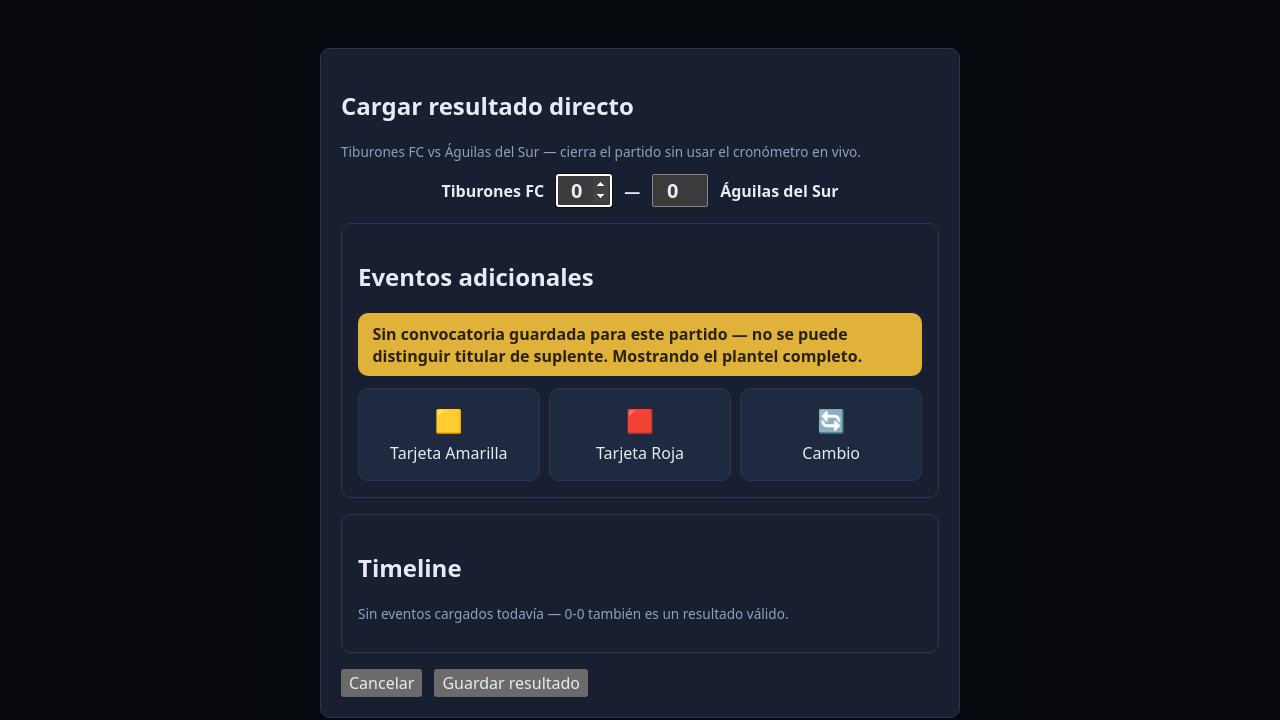
it: ModalResultadoDirecto — slots por marcador › bajar el marcador sin slots llenos no pide confirmación
This screenshot has width=1280, height=720.
Replace the text in the number field named "Goles Tiburones FC" with "3" at (584, 191), box left=556, top=174, right=612, bottom=207
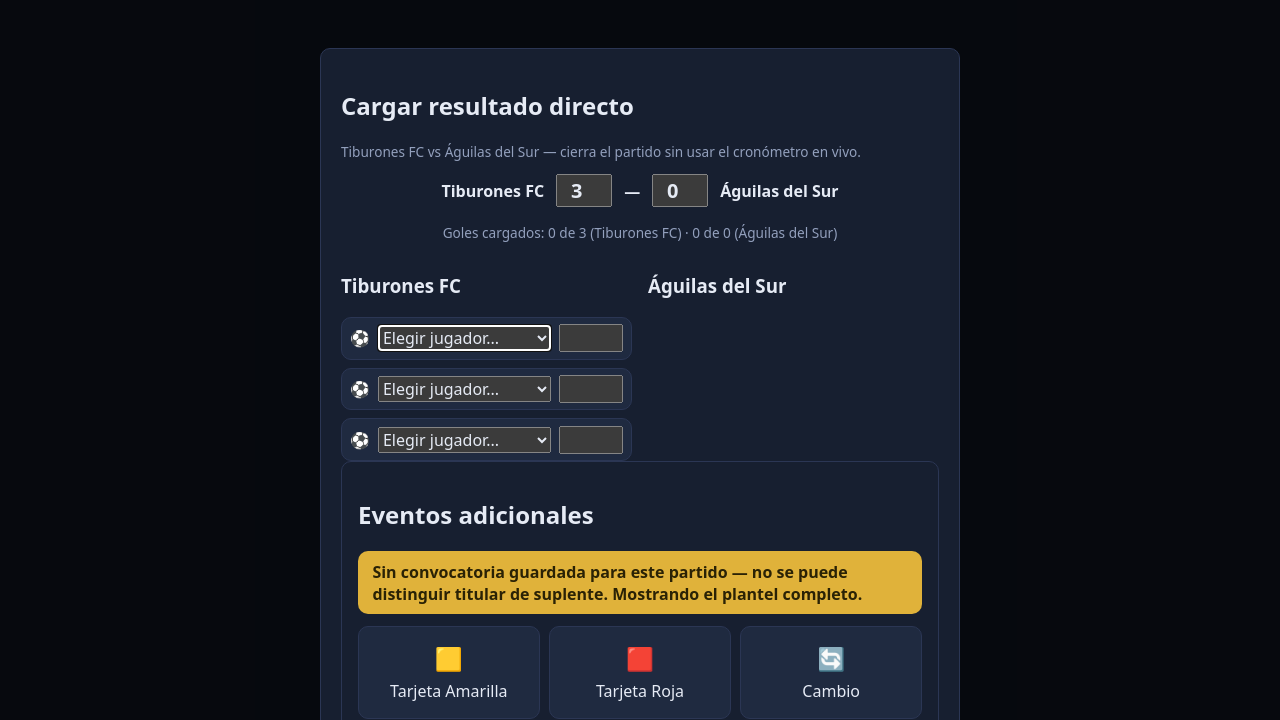
Replace the text in the number field named "Goles Tiburones FC" with "1" at (584, 191), box left=556, top=174, right=612, bottom=207
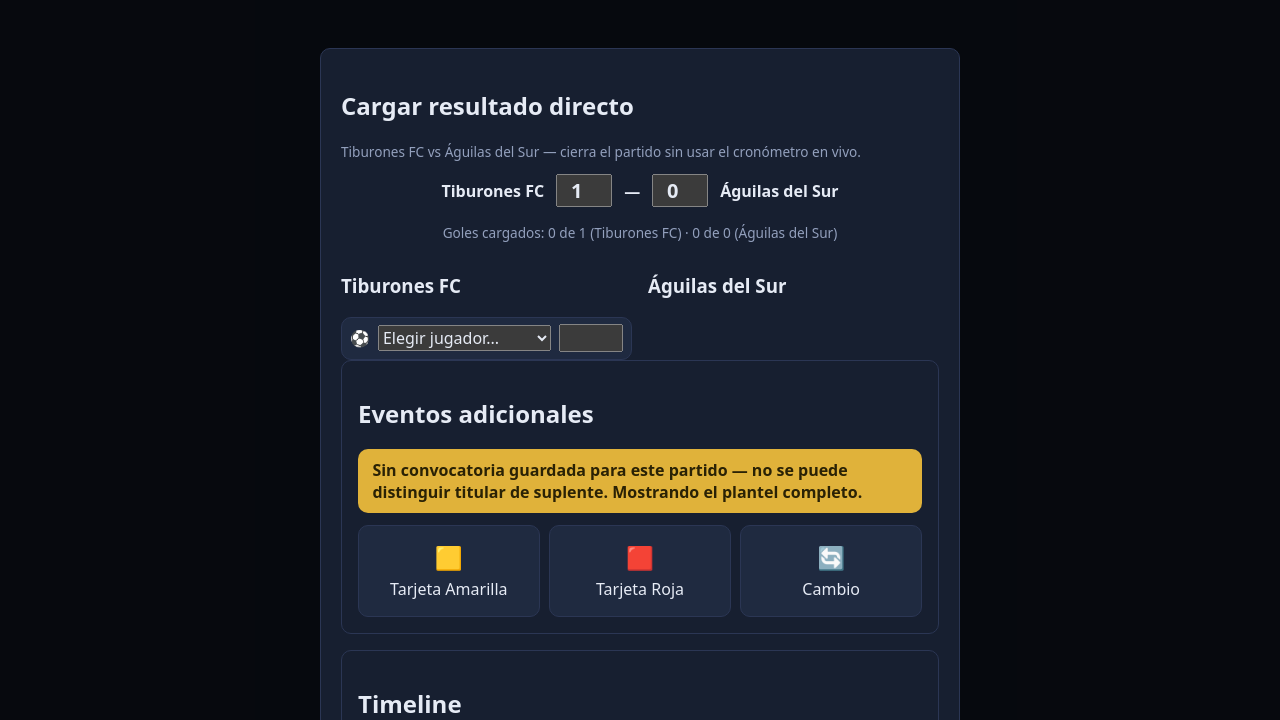
Expected: the number of dropdowns named "Goleador, Tiburones FC" is 1, left=378, top=325, right=551, bottom=351
